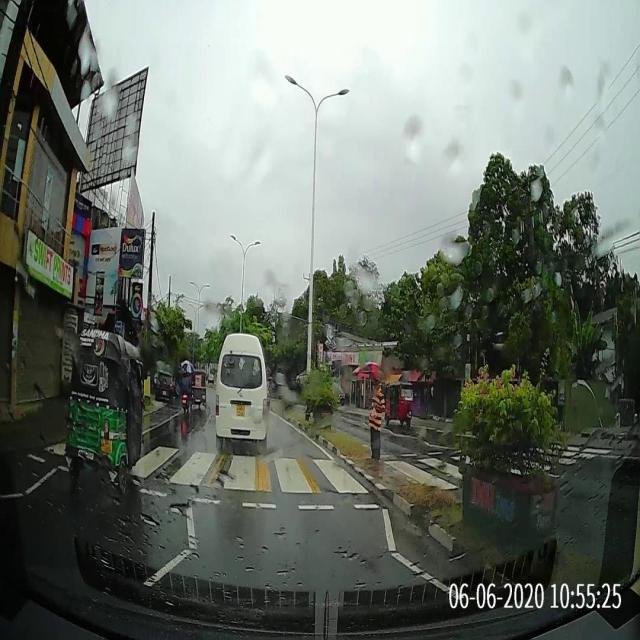Liniya 1: (381, 507, 397, 550), (185, 506, 197, 549)
Perehod: (126, 447, 370, 494)
